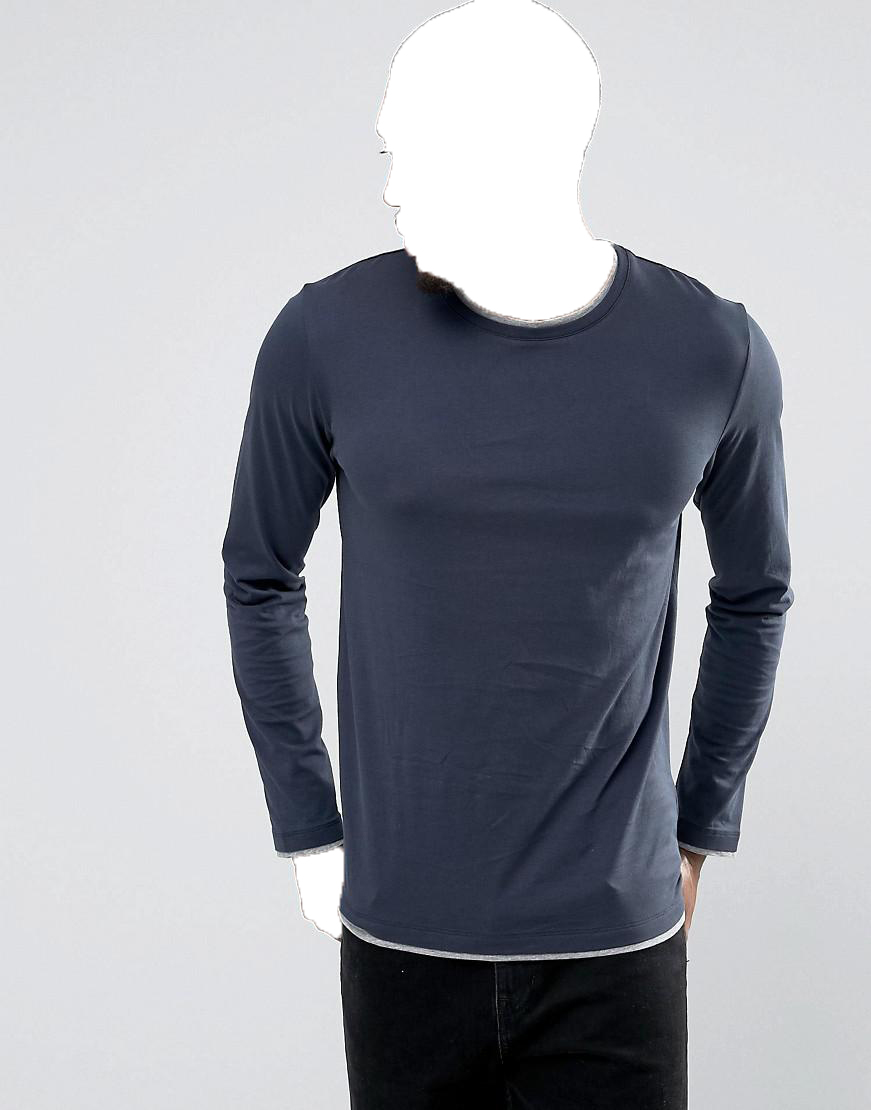teeshirt: (208, 249, 796, 978)
